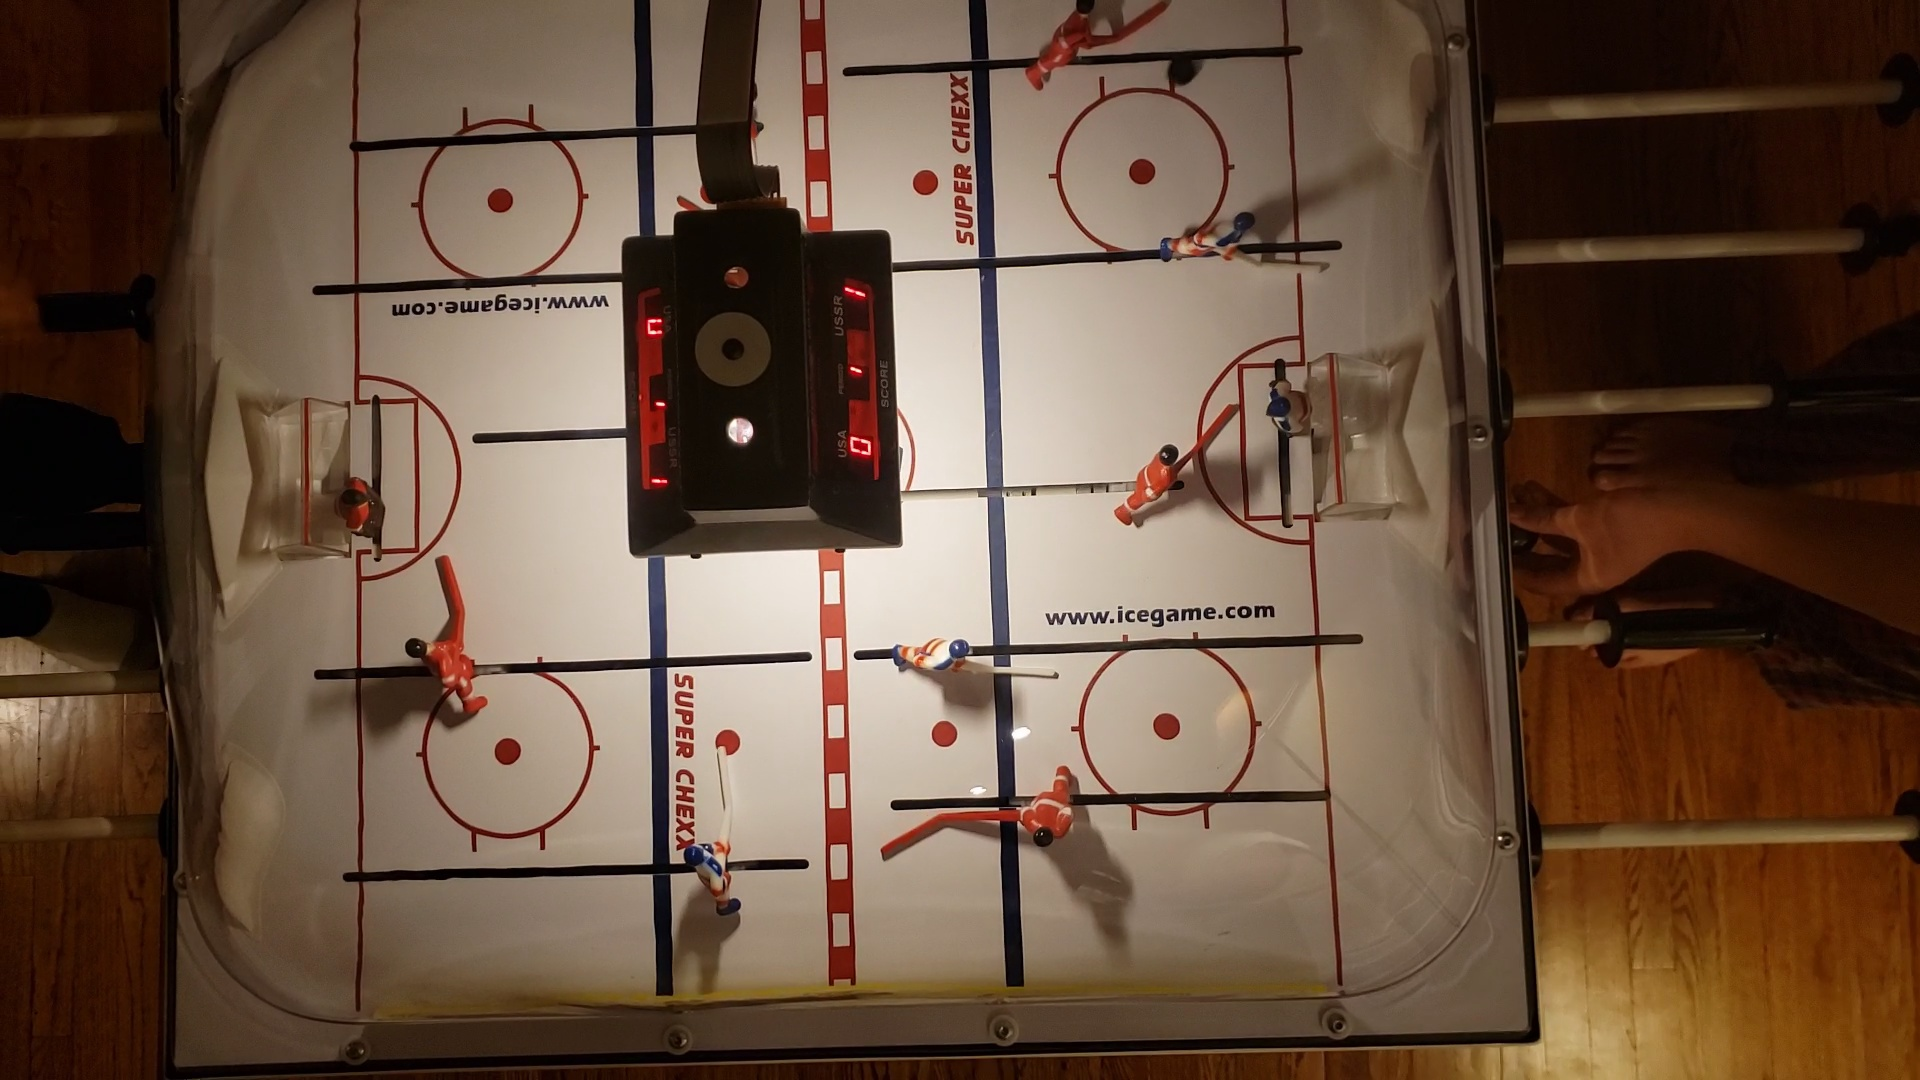puck: (1164, 55, 1201, 86)
